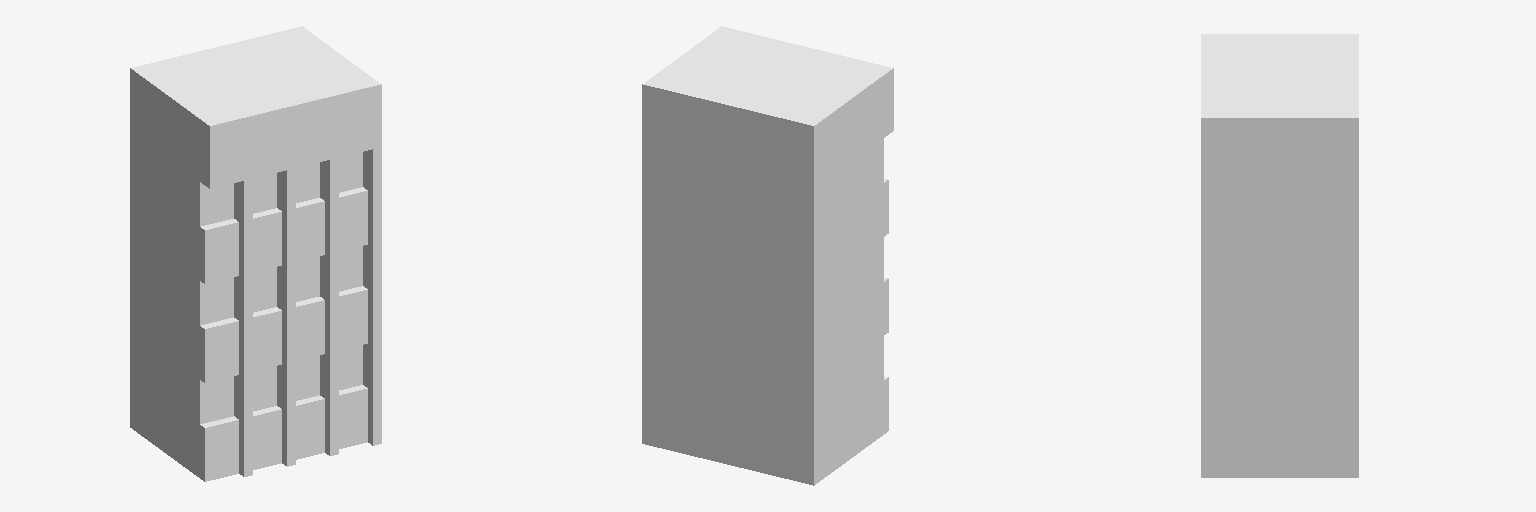
Rendered from building_02.obj.
3 renders of one model, left to right at view 1: azimuth 30°, elevation 25°; view 2: azimuth 150°, elevation 25°; view 3: azimuth 270°, elevation 25°, orthographic.
Parts seen in each view (by area): view 1: object 1; view 2: object 1; view 3: object 1.
Part boxes in pixels (x1,y1,x2,y2): object 1: (130, 26, 381, 481); object 1: (642, 26, 893, 485); object 1: (1201, 34, 1358, 477).
Size of the model in its own units: 2 by 4 by 1.6.